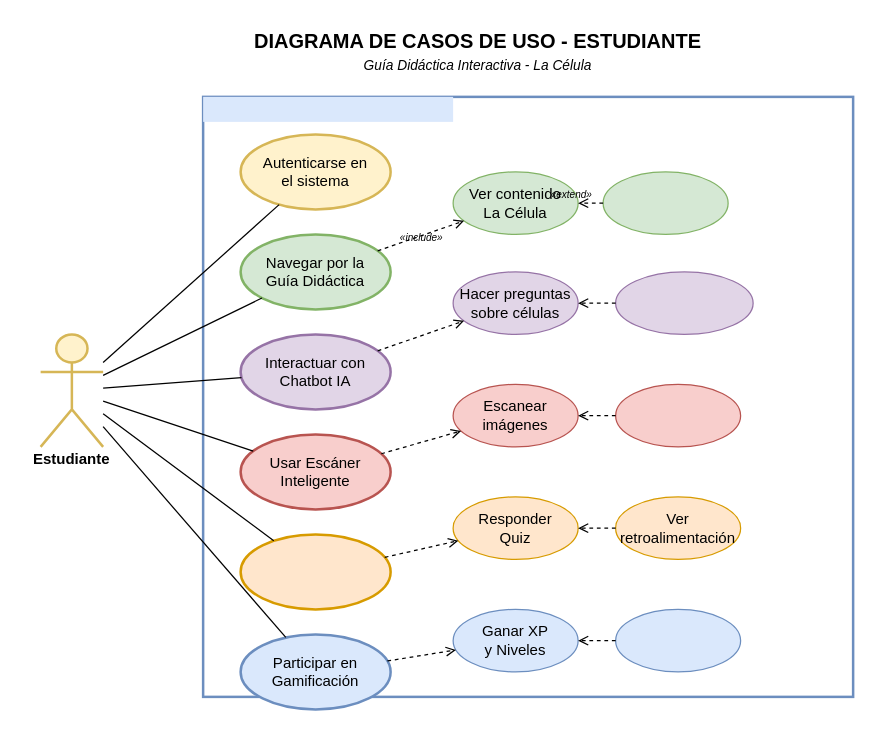
Some shapes in this 875 by 731 pixel diagram are drawn without their labels. Here are the shapes that lost their labels. From the top down, the centre of each, then its label:
At (327,108): "Sistema: Guía Didáctica La Célula".
At (665,202): "Ver Célula Animal/Vegetal".
At (683,302): "Recibir respuestas contextualizadas".
At (677,415): "Obtener análisis con IA".
At (315,571): "Realizar Evaluaciones".
At (677,640): "Desbloquear Logros".
